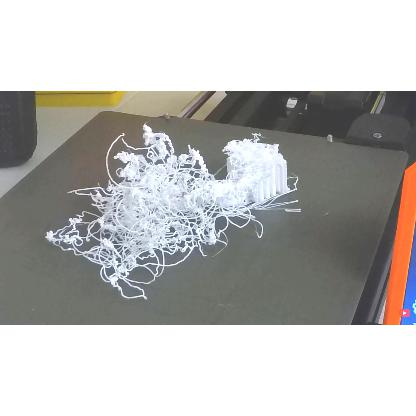fail: (44, 135, 278, 299)
